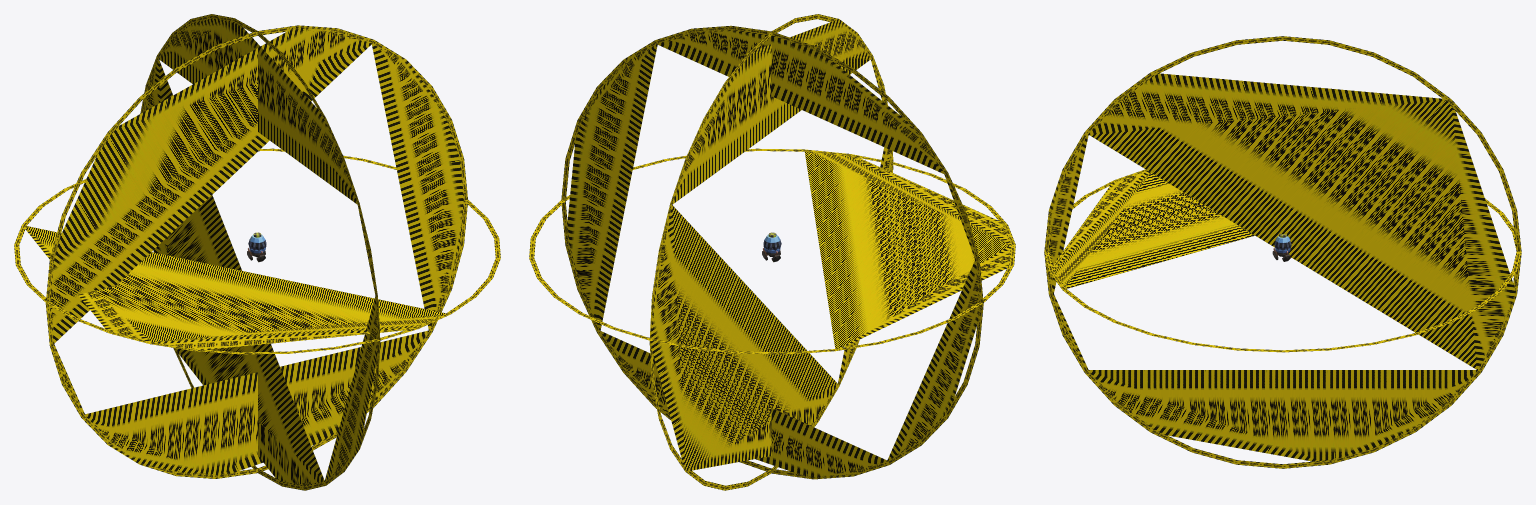
File: item_portable_safe_zone.glb
3 renders of one model, left to right at view 1: azimuth 30°, elevation 25°; view 2: azimuth 150°, elevation 25°; view 3: azimuth 270°, elevation 25°, orthographic. The views are drawn at different scales.
Visible parts, largest first — view 1: safe_boundary; view 2: safe_boundary; view 3: safe_boundary.
Part boxes in pixels (box(x1,y1,x2,y2)): safe_boundary: box(14, 14, 500, 490); safe_boundary: box(529, 14, 1015, 490); safe_boundary: box(1044, 36, 1521, 468).
Size of the model in its own units: 5.65 by 5.65 by 5.65.
Materials: 3 (3 with a texture image).
